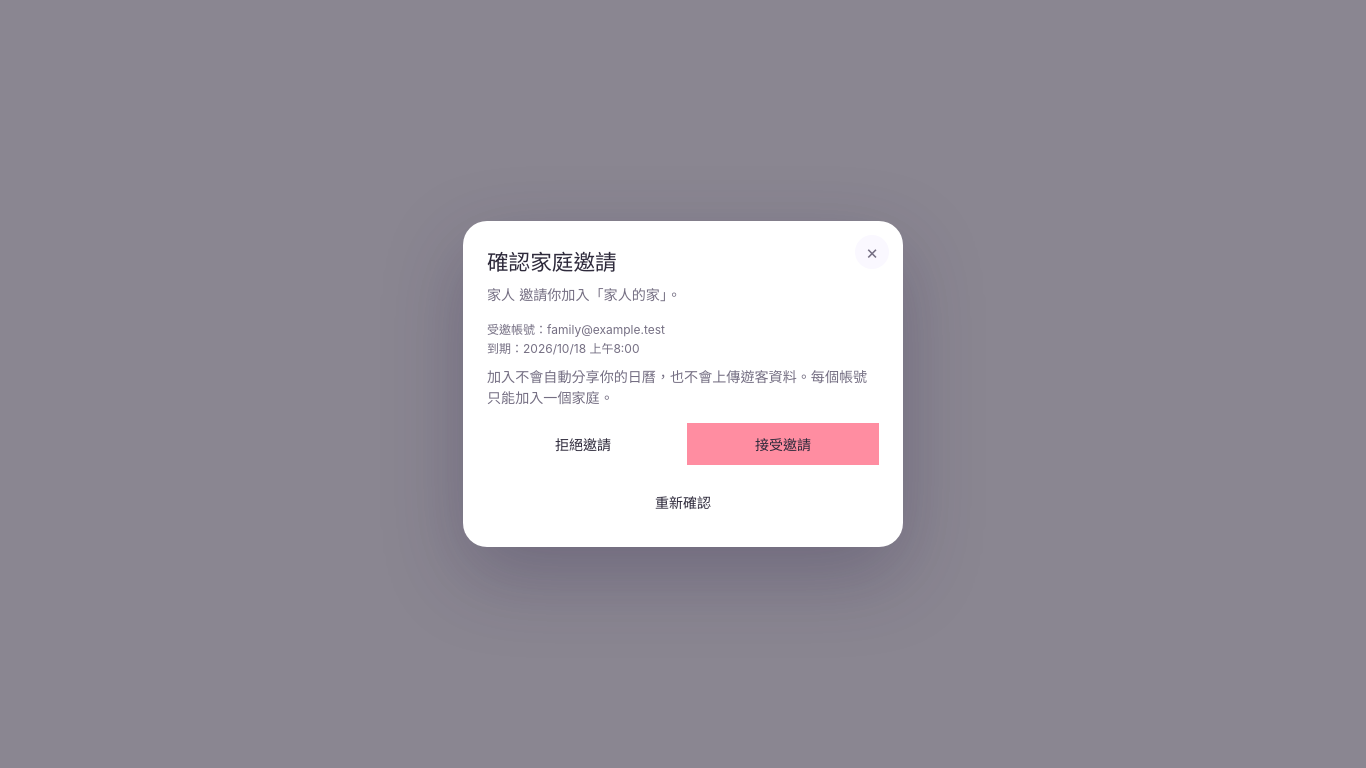
Scenario: family invitation Auth boundary › waits for an explicit acceptance after login and then clears the intent
The width and height of the screenshot is (1366, 768).
Click the button "接受邀請" at (783, 444), box 687,423 -> 879,465
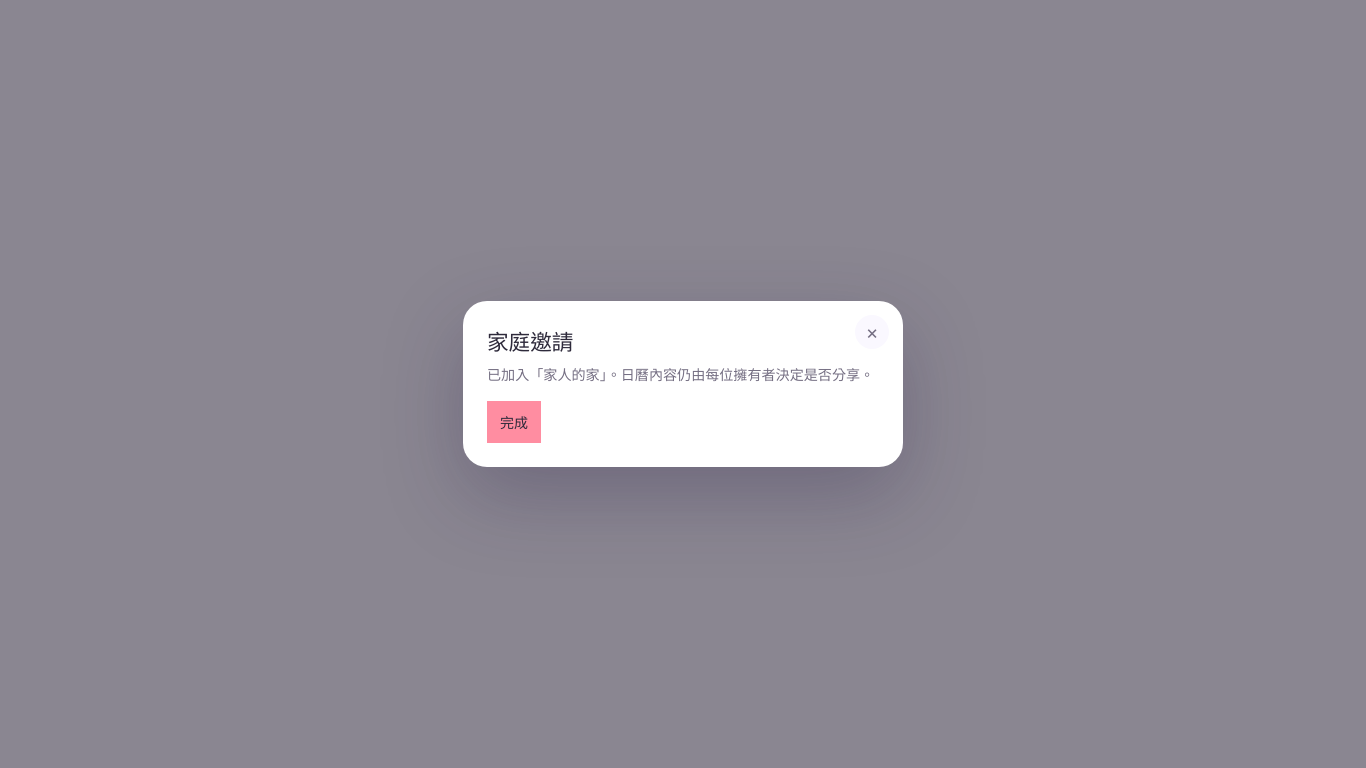
Result: the text "已加入「家人的家」" is shown at 487,366 -> 874,383
